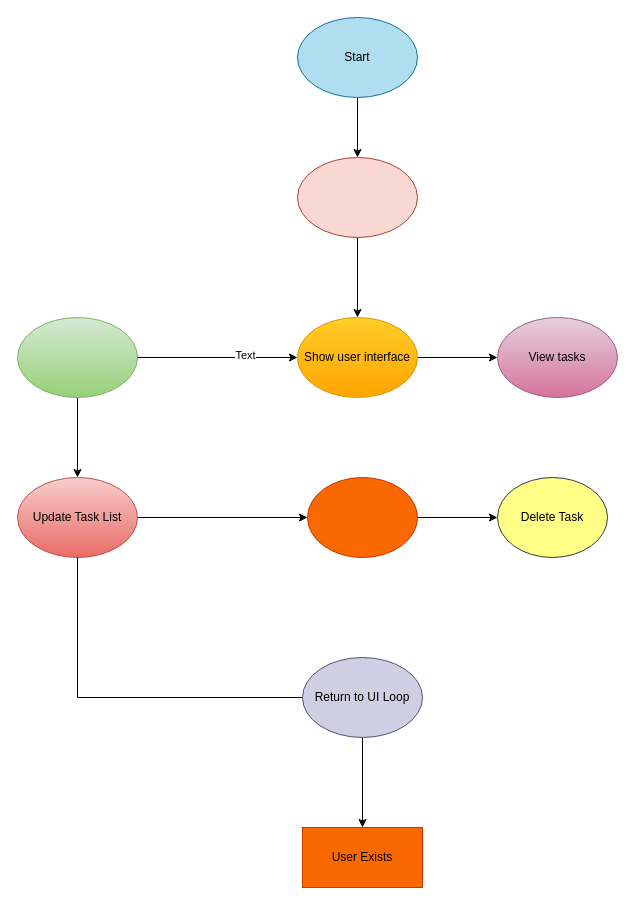
This 635x905 diagram has some shape labels left out. The shapes that lost their labels are listed below. From the top down, each one's centre as x and y in pixels, then its label:
the point at 357,197: Load Exisitng Tasks (if any)
the point at 77,357: Add New Task
the point at 362,517: Optional Actions
